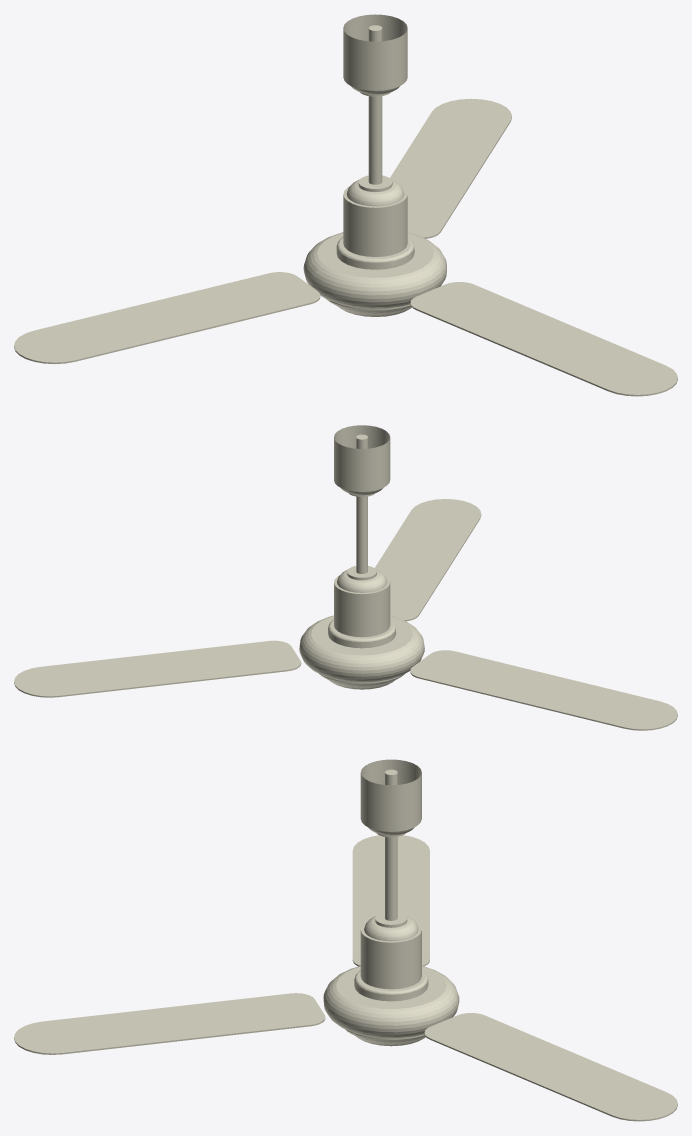
Rendered from Fan - 2.gltf.
3 renders of one model, top to bottom at view 1: azimuth 30°, elevation 25°; view 2: azimuth 150°, elevation 25°; view 3: azimuth 270°, elevation 25°, orthographic. The views are drawn at different scales.
Visible parts, largest first — view 1: root; view 2: root; view 3: root.
Part boxes in pixels (x1,y1,x2,y2): root: [14, 14, 677, 396]; root: [14, 425, 677, 730]; root: [14, 759, 677, 1121].
Size of the model in its own units: 1.05 by 0.4417 by 1.03.
